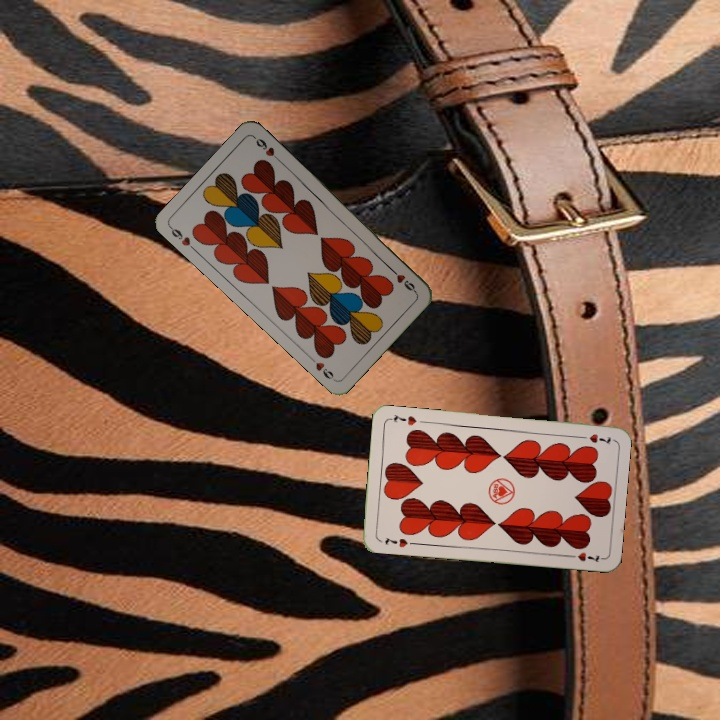H7: (575, 430, 615, 447), (381, 533, 410, 550)
H9: (386, 264, 419, 295), (166, 223, 199, 254)
